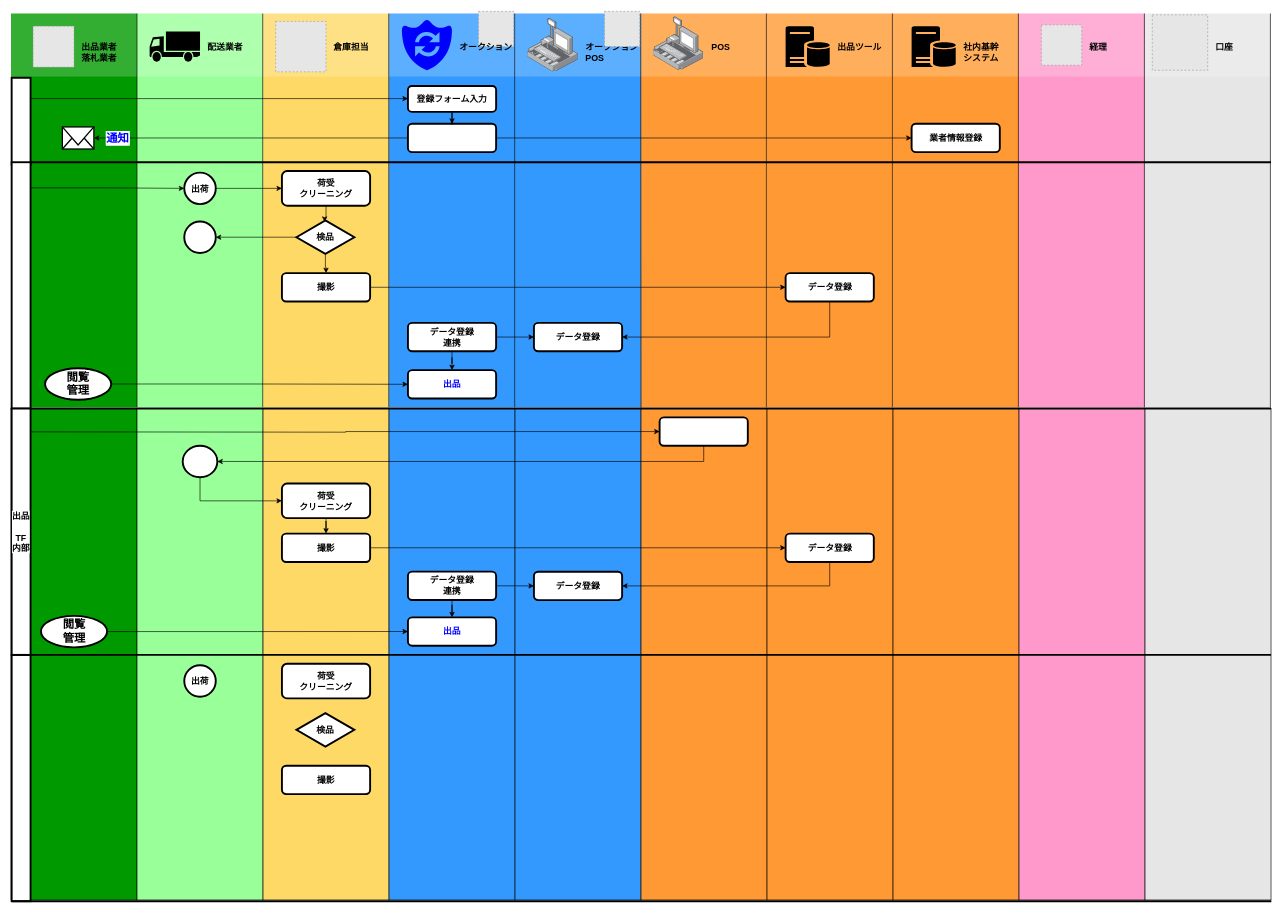
Image size: 1284x914. Some labels were removed from this diagram. Grey dashed boxes stand in for pictures. The centre of each missing label's shape, as x and y in pixels:
会員登録: (x=20, y=121)
出品 外部: (x=20, y=285)
出品 引越し受取: (x=20, y=778)
出品処理: (x=703, y=431)
古物商番号照会 与信: (x=452, y=138)
在庫 移動: (x=199, y=461)
返品: (x=199, y=237)
